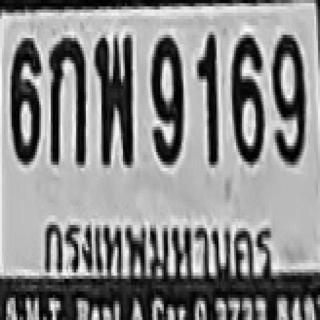A01: (49, 35, 84, 162)
A30: (94, 33, 131, 163)
N01: (195, 32, 216, 165)
N06: (230, 33, 263, 163), (10, 35, 39, 162)
N09: (271, 32, 304, 165), (150, 32, 181, 162)
P04: (33, 210, 280, 286)
